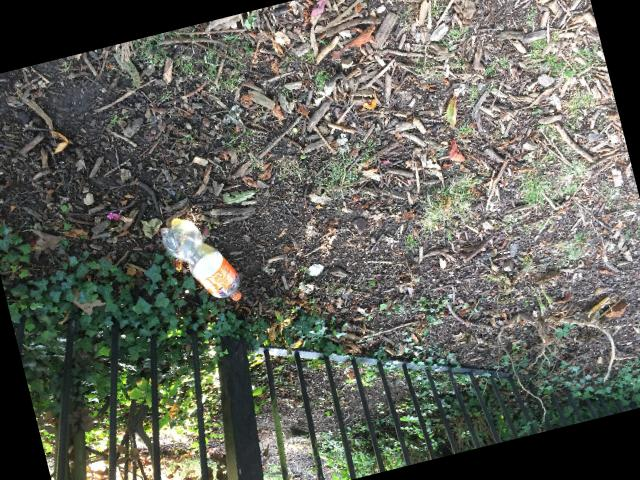plastic: (160, 218, 240, 300)
